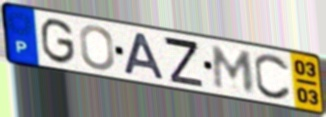A: (122, 31, 167, 82)
C: (253, 51, 294, 102)
G: (40, 17, 78, 67)
M: (212, 44, 256, 95)
O: (77, 24, 116, 72)
Z: (161, 34, 205, 89)
